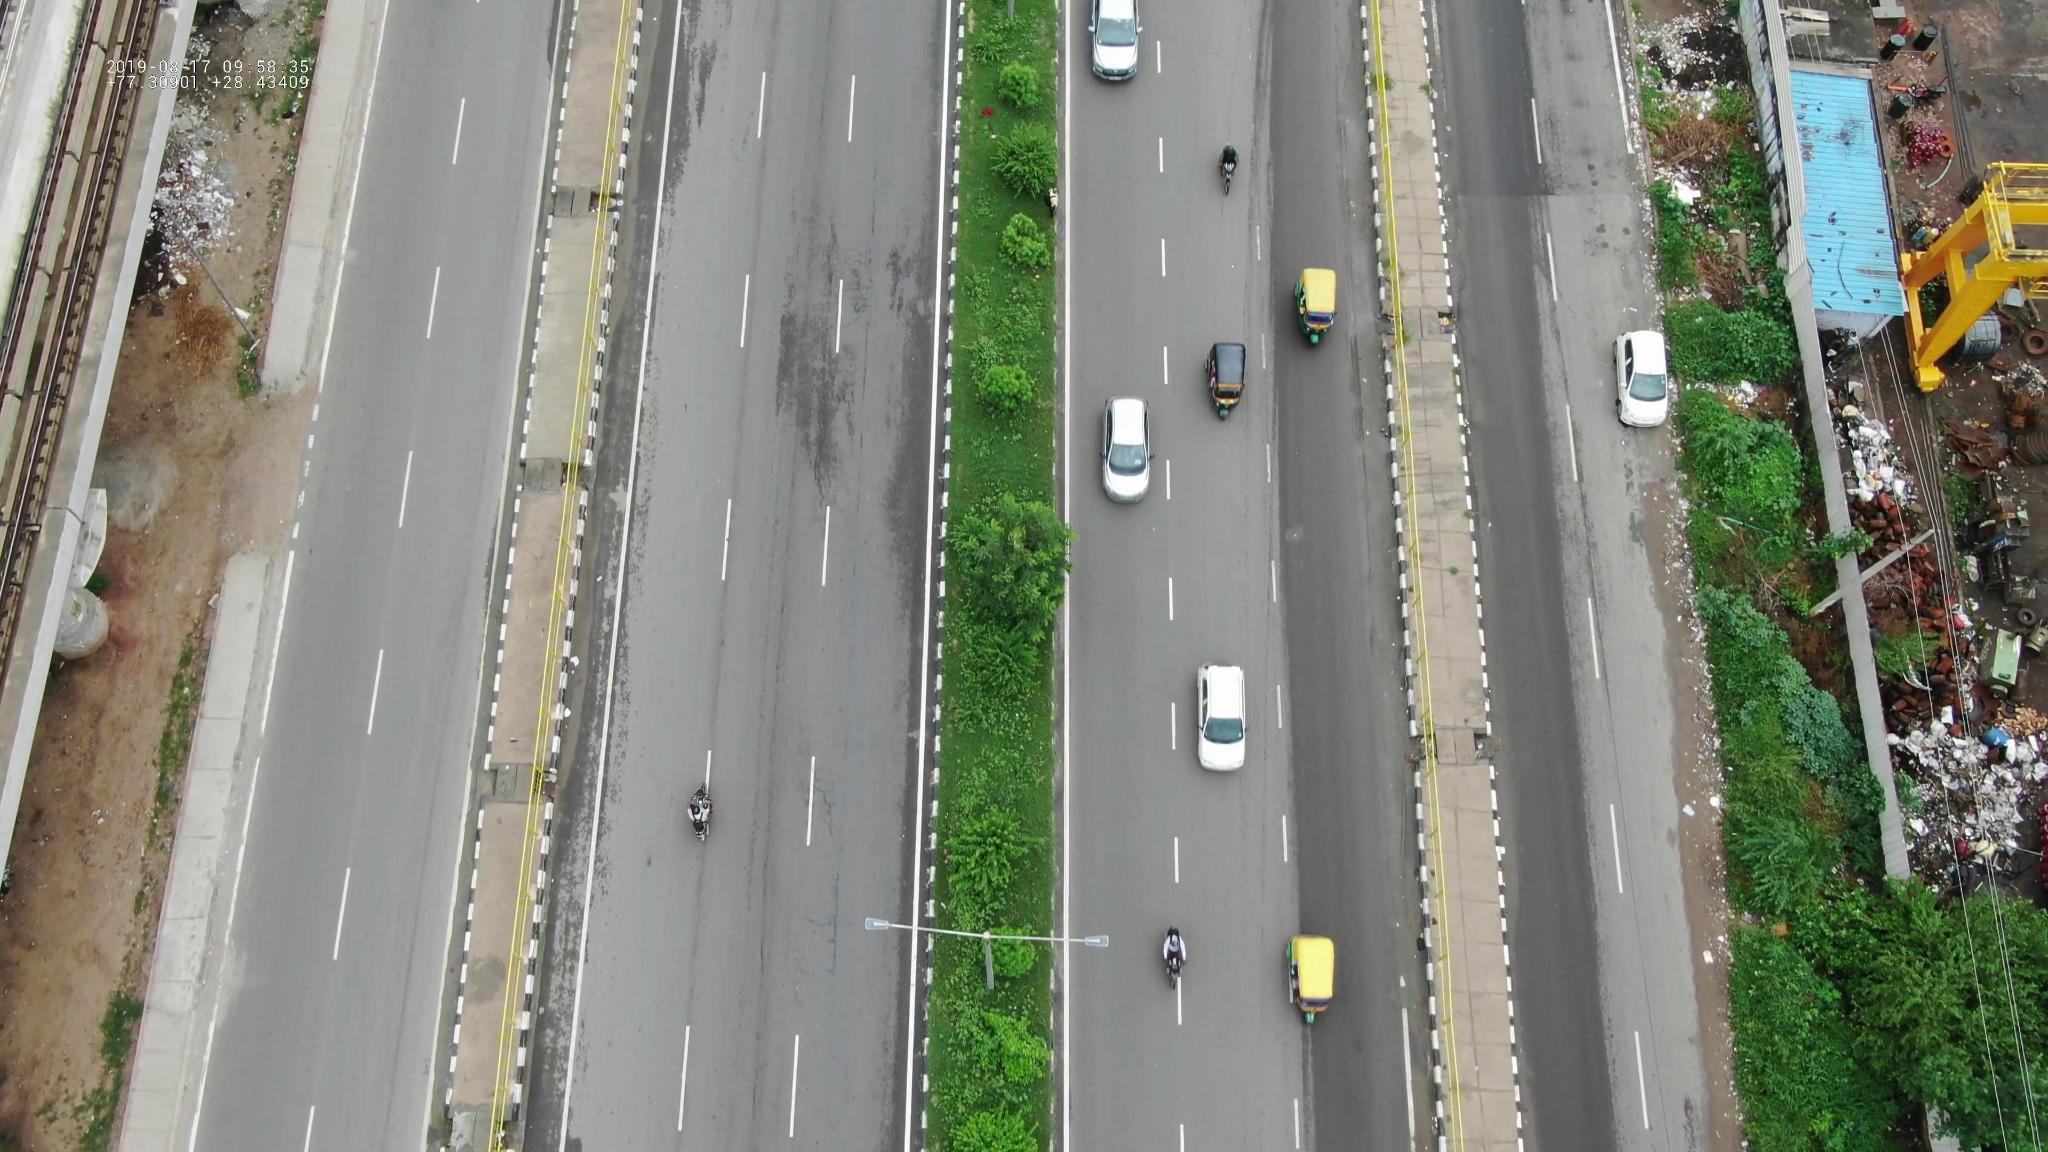Cracks: (776, 188, 897, 444), (778, 765, 866, 999)
Road_side_garbage: (1888, 691, 2048, 895)
